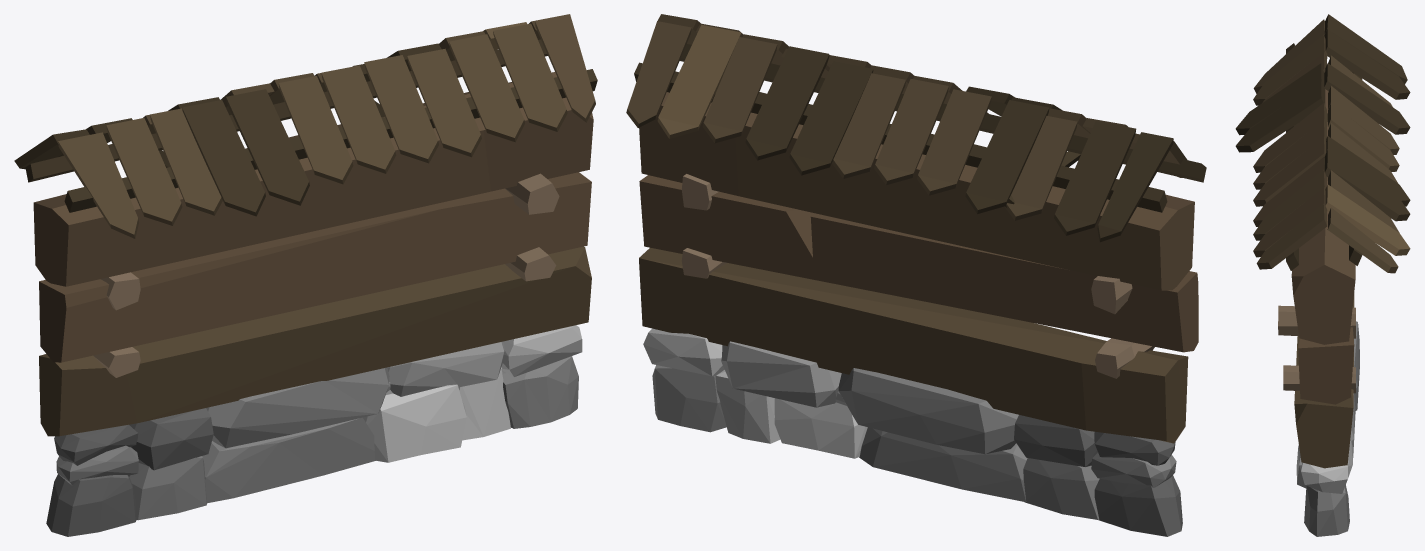
Rendered from EA03_Fence_Wall_01b.glb.
3 renders of one model, left to right at view 1: azimuth 30°, elevation 25°; view 2: azimuth 150°, elevation 25°; view 3: azimuth 270°, elevation 25°, orthographic. The views are drawn at different scales.
Parts seen in each view (by area): view 1: EA03_Fence_Wall_01b; view 2: EA03_Fence_Wall_01b; view 3: EA03_Fence_Wall_01b.
Boxes of the visible parts, x1,y1,x2,y2 form: EA03_Fence_Wall_01b: [14, 14, 597, 536]; EA03_Fence_Wall_01b: [626, 14, 1206, 536]; EA03_Fence_Wall_01b: [1235, 14, 1410, 536].
Size of the model in its own units: 5 by 3.55 by 1.76.
1 material, 1 textured.
